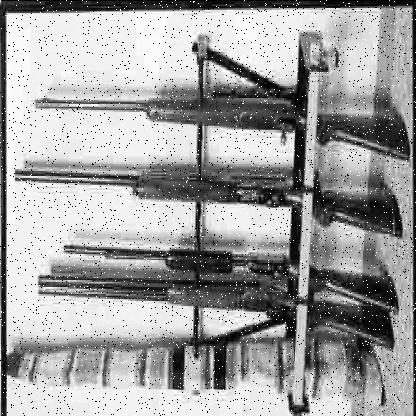rifle: (28, 256, 400, 371), (17, 64, 411, 165), (10, 142, 401, 236), (57, 222, 405, 312)
